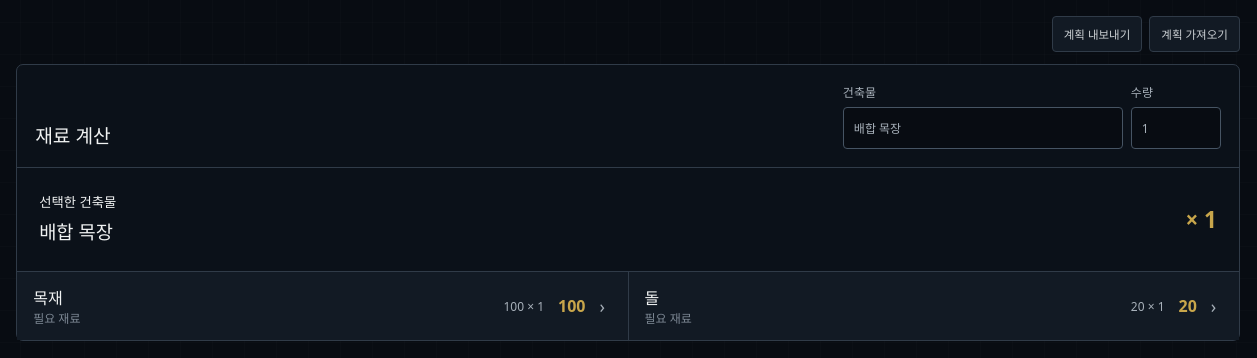
Test: ToolsBoard › finds a building by Korean name without rendering the full selector
The image size is (1257, 358).
Replace the text in the dropdown labelled "건축물" with "배합" at [983, 128], box [843,107,1123,149]
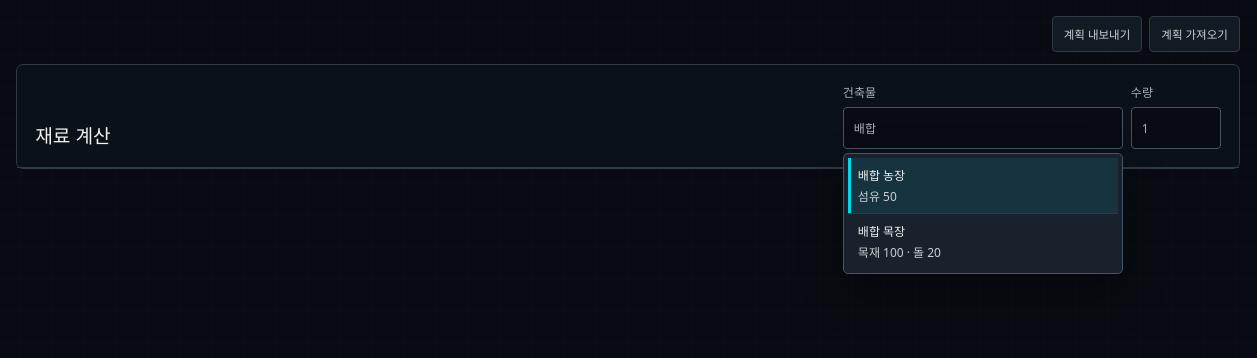
Now the number of options is 2
Now the option "배합 목장 목재 100 · 돌 20" is shown, box [848,214,1118,269]
Click the option "배합 농장 섬유 50" at [881, 176], box [848,158,1118,214]
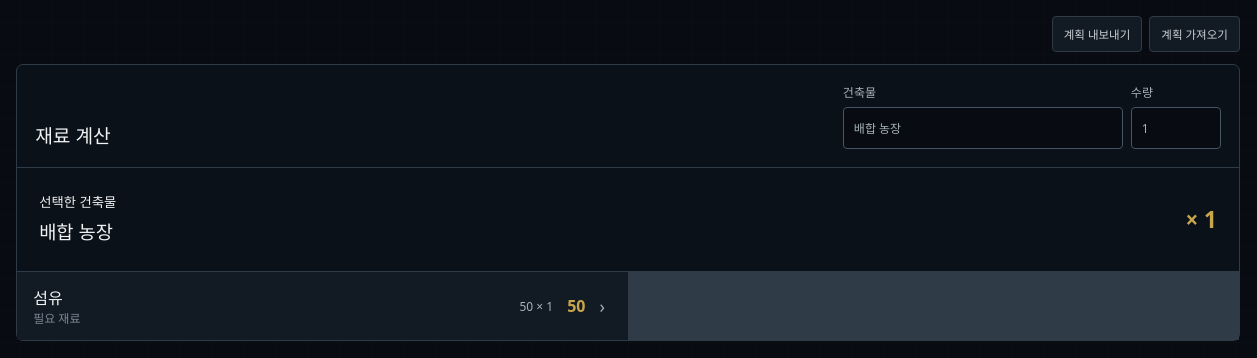
Now the heading "배합 농장" is shown, box [39,217,116,244]
Now the dropdown labelled "건축물" holds "배합 농장", box [843,107,1123,149]
